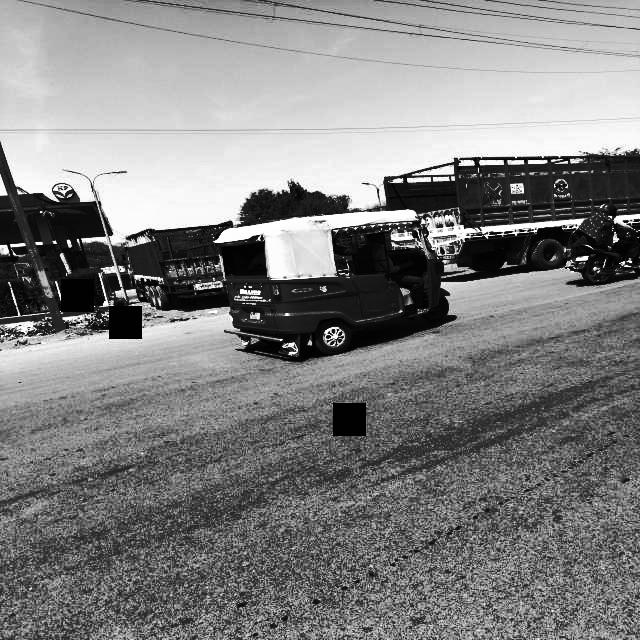Auto-Rickshaw: (194, 206, 485, 364)
